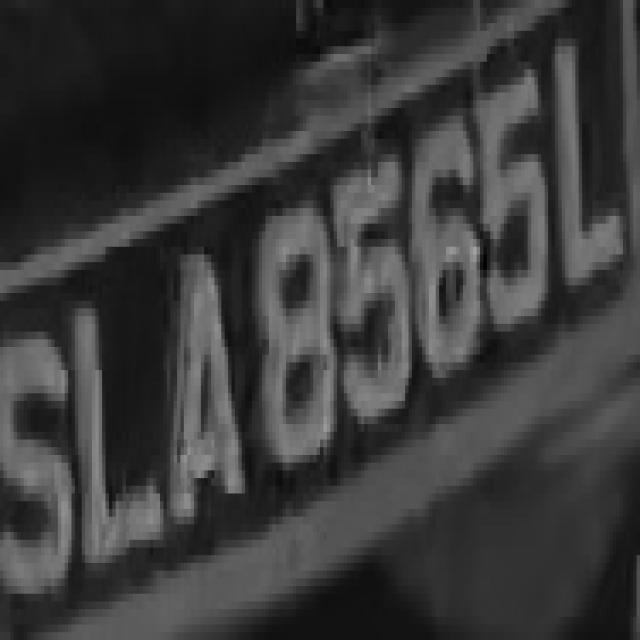5: (337, 123, 412, 440), (487, 46, 548, 340)
6: (402, 100, 483, 393)
8: (248, 177, 344, 486)
A: (164, 208, 248, 555)
L: (65, 262, 166, 586), (548, 23, 637, 316)
S: (3, 300, 74, 640)
